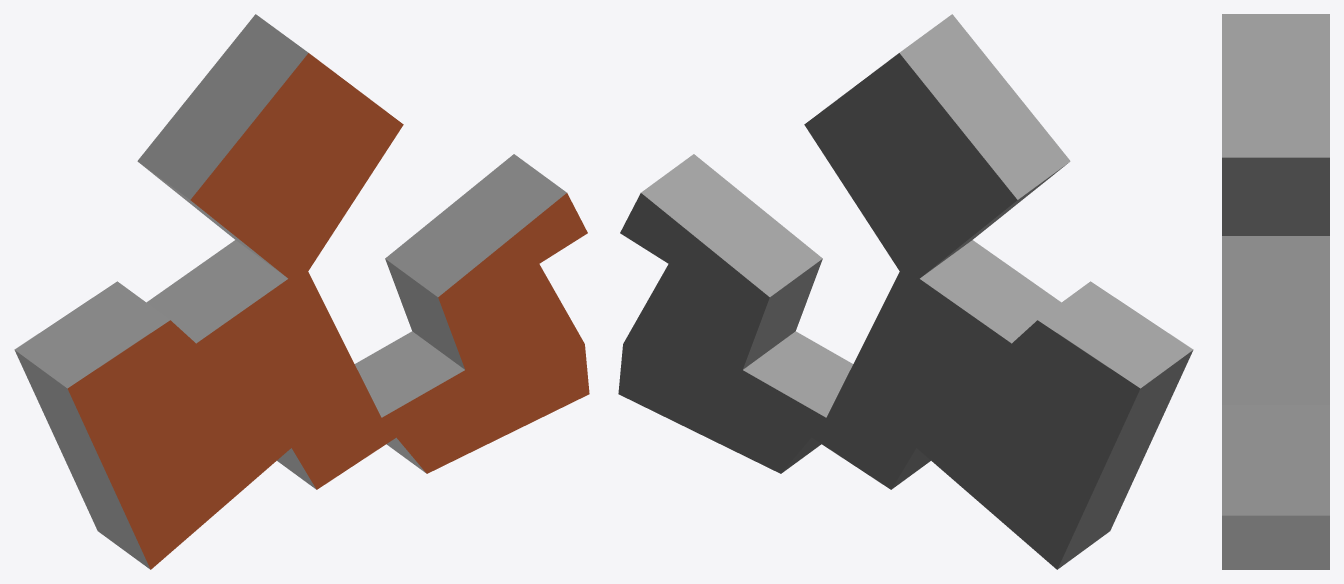
File: construction_2964_assumed_A_Casa_h6m.obj
The picture shows the model from 3 angles, left to right: view 1: azimuth 30°, elevation 25°; view 2: azimuth 150°, elevation 25°; view 3: azimuth 270°, elevation 25°; orthographic projection.
Parts seen in each view (by area): view 1: construction_2964_assumed_A_Casa; view 2: construction_2964_assumed_A_Casa; view 3: construction_2964_assumed_A_Casa.
Part boxes in pixels (x1=…): construction_2964_assumed_A_Casa: x1=14, y1=14, x2=589, y2=569; construction_2964_assumed_A_Casa: x1=618, y1=14, x2=1193, y2=569; construction_2964_assumed_A_Casa: x1=1222, y1=14, x2=1329, y2=569.
Bounding box in the file's own units: 34.09 × 29.86 × 6.
